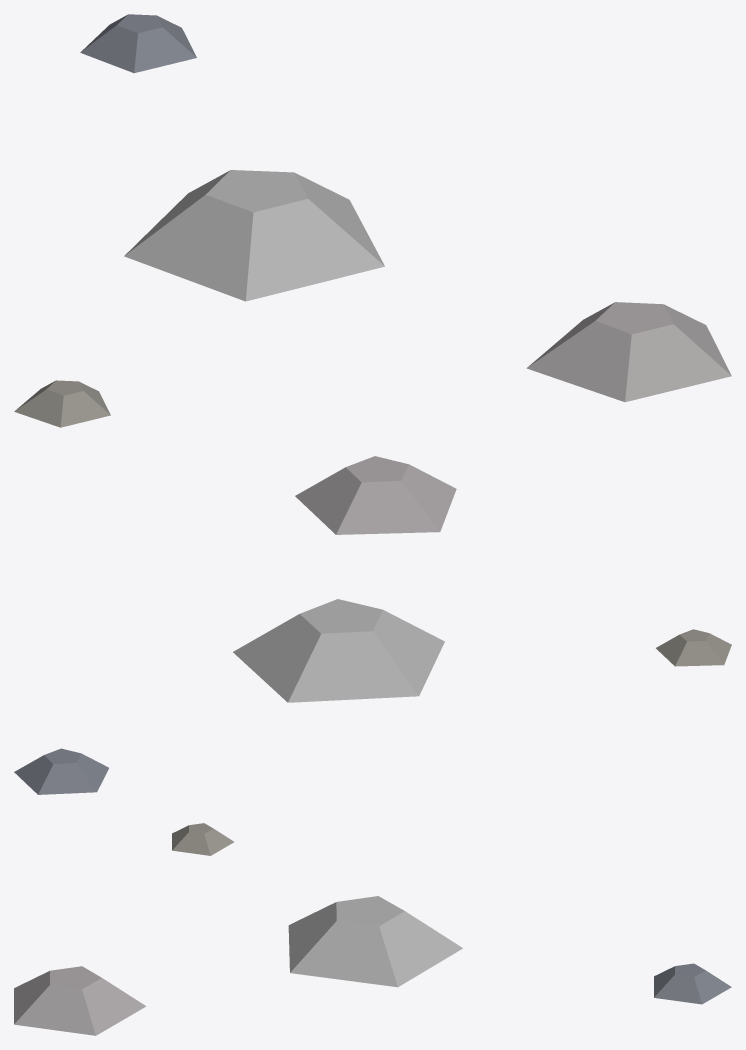
The model's file is Rocks_Round_s_04.fbx.
The picture shows the model from 3 angles, top to bottom: view 1: azimuth 30°, elevation 25°; view 2: azimuth 150°, elevation 25°; view 3: azimuth 270°, elevation 25°; orthographic projection. The views are drawn at different scales.
Parts seen in each view (by area): view 1: Rocks_Round_s_04; view 2: Rocks_Round_s_04; view 3: Rocks_Round_s_04.
Boxes of the visible parts, x1,y1,x2,y2 form: Rocks_Round_s_04: [14, 14, 731, 427]; Rocks_Round_s_04: [14, 456, 731, 794]; Rocks_Round_s_04: [14, 823, 731, 1035].
Bounding box in the file's own units: 35.58 × 3.07 × 52.01.
